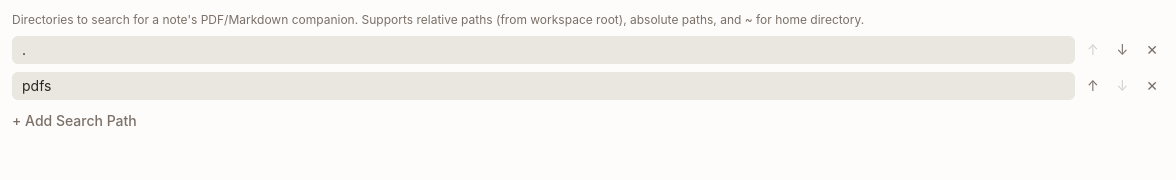
Scenario: CompanionSearchPathSettings › clicking Add appends an empty row locally WITHOUT persisting
Click the button with test id "companion-path-add": [74, 121] box [12, 111, 137, 131]
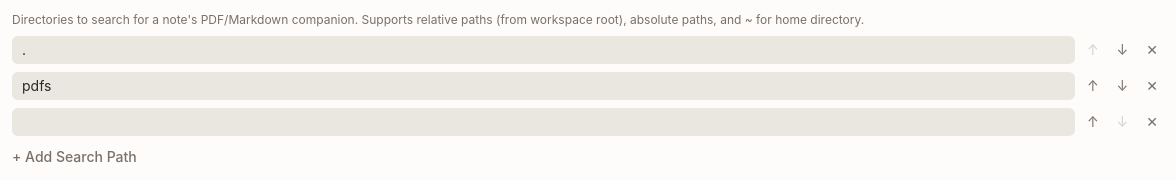
Expected: the field with test id "companion-path-input-2" is shown, [12, 108, 1075, 136]
